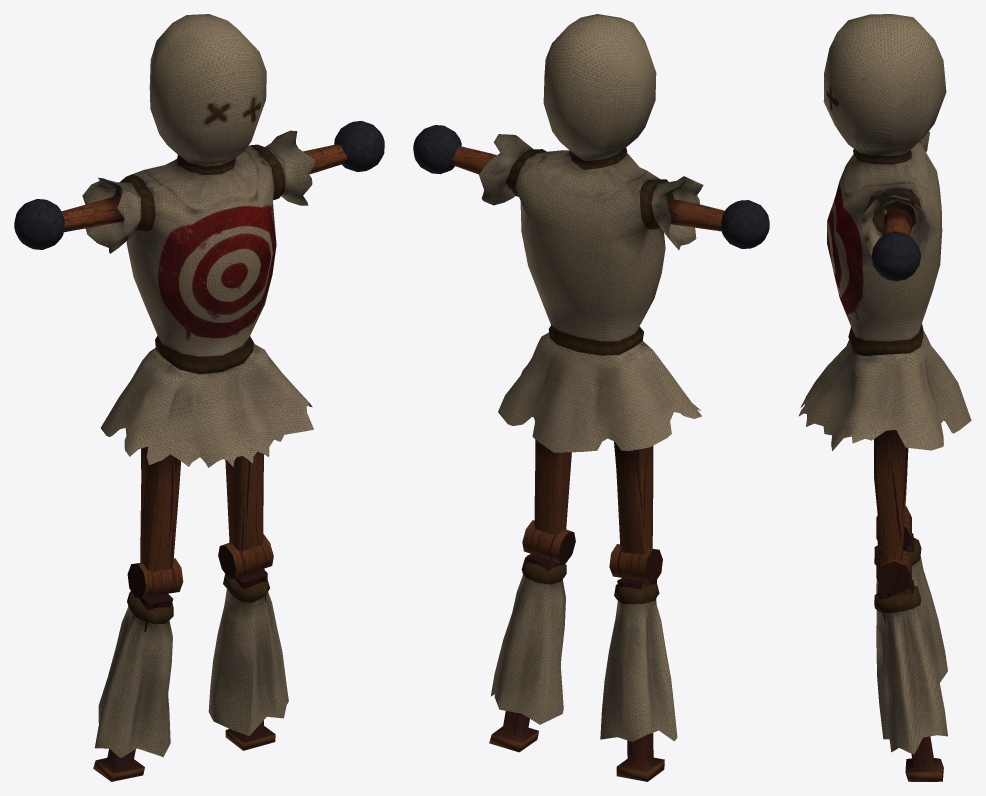
Rendered from dum.fbx.
The picture shows the model from 3 angles, left to right: view 1: azimuth 30°, elevation 25°; view 2: azimuth 150°, elevation 25°; view 3: azimuth 270°, elevation 25°; orthographic projection. The views are drawn at different scales.
Visible parts, largest first — view 1: dum; view 2: dum; view 3: dum.
Boxes of the visible parts, x1,y1,x2,y2 form: dum: (14, 14, 384, 781); dum: (413, 14, 769, 781); dum: (798, 14, 971, 781).
Size of the model in its own units: 131 by 259 by 55.82.
Materials: 1 (1 with a texture image).
